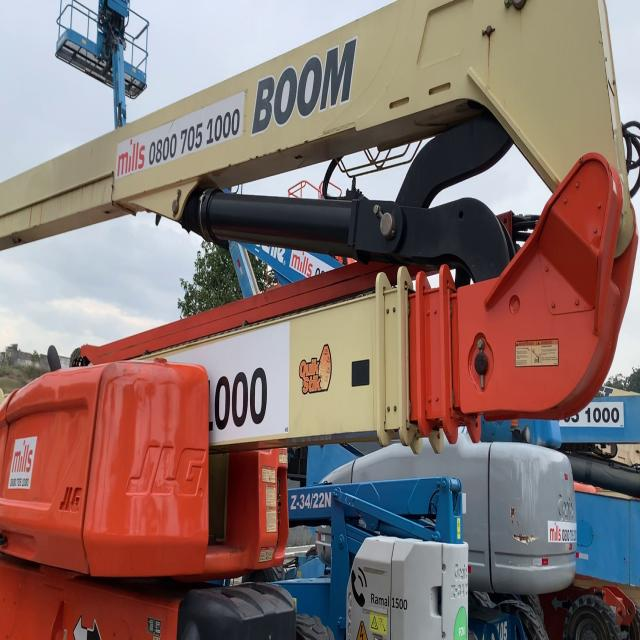Adesivo Longo: (113, 89, 246, 182)
